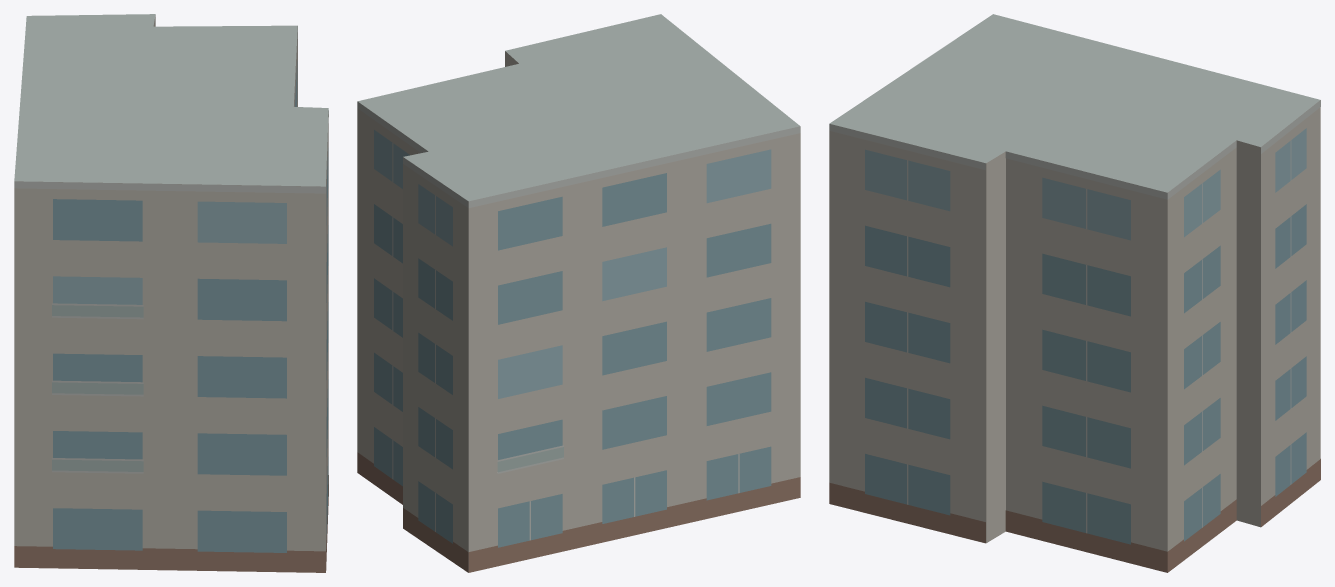
Rendered from survey-upis-32686265.glb.
3 renders of one model, left to right at view 1: azimuth 30°, elevation 25°; view 2: azimuth 150°, elevation 25°; view 3: azimuth 270°, elevation 25°, orthographic. The views are drawn at different scales.
Visible parts, largest first — view 1: survey-upis-32686265.tmp; view 2: survey-upis-32686265.tmp; view 3: survey-upis-32686265.tmp.
Part boxes in pixels (box(x1,y1,x2,y2)): survey-upis-32686265.tmp: box(14, 14, 328, 572); survey-upis-32686265.tmp: box(357, 14, 800, 572); survey-upis-32686265.tmp: box(829, 14, 1320, 572).
Bounding box in the file's own units: 13.32 × 13.2 × 15.47.
